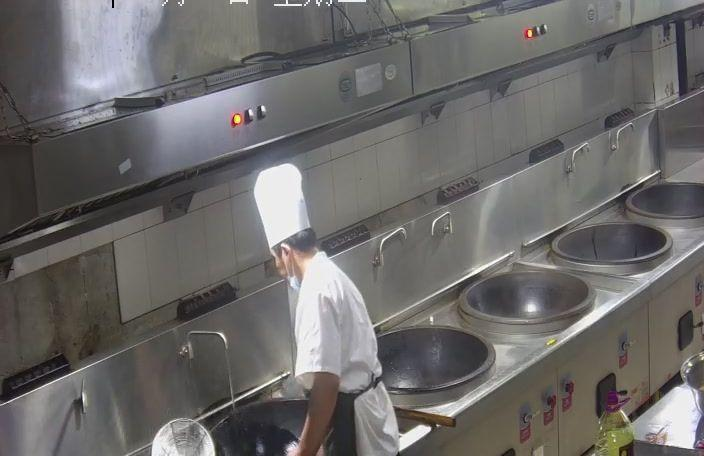mask: (276, 266, 296, 288)
